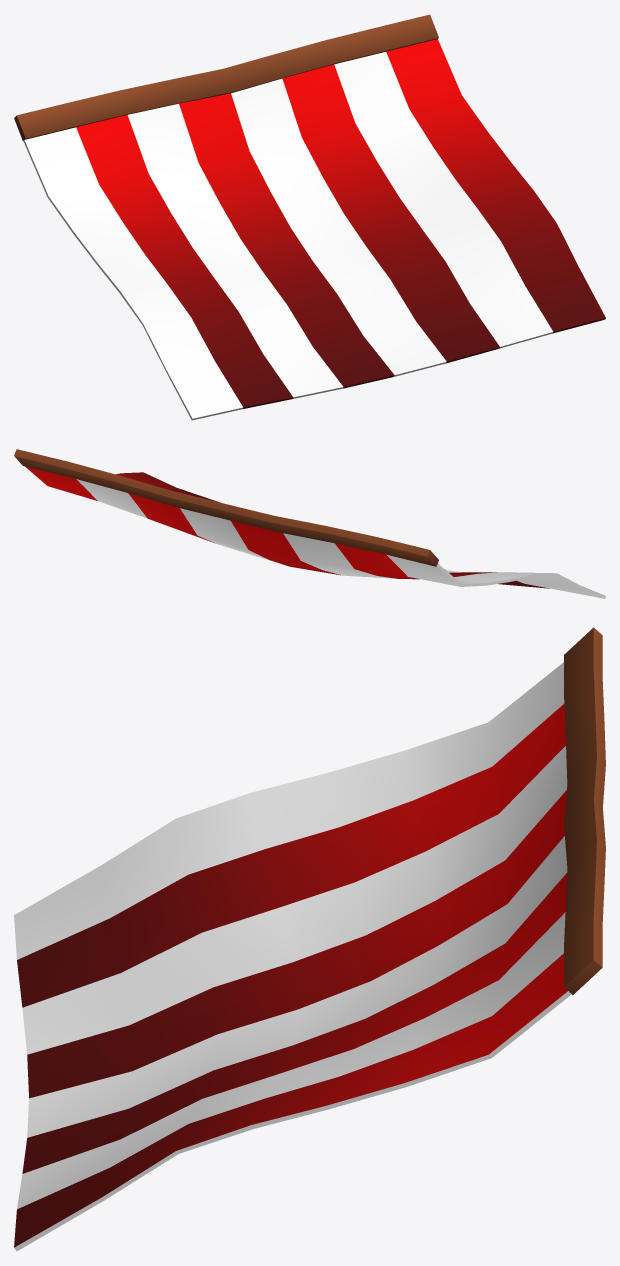
Rendered from Shop_plane.fbx.
The picture shows the model from 3 angles, top to bottom: view 1: azimuth 30°, elevation 25°; view 2: azimuth 150°, elevation 25°; view 3: azimuth 270°, elevation 25°; orthographic projection. The views are drawn at different scales.
Parts seen in each view (by area): view 1: Plane; view 2: Plane; view 3: Plane.
Boxes of the visible parts, box(x1,y1,x2,y2) form: Plane: box(14, 14, 605, 420); Plane: box(14, 449, 605, 598); Plane: box(14, 627, 605, 1251).
Bounding box in the file's own units: 200 × 86.59 × 150.
